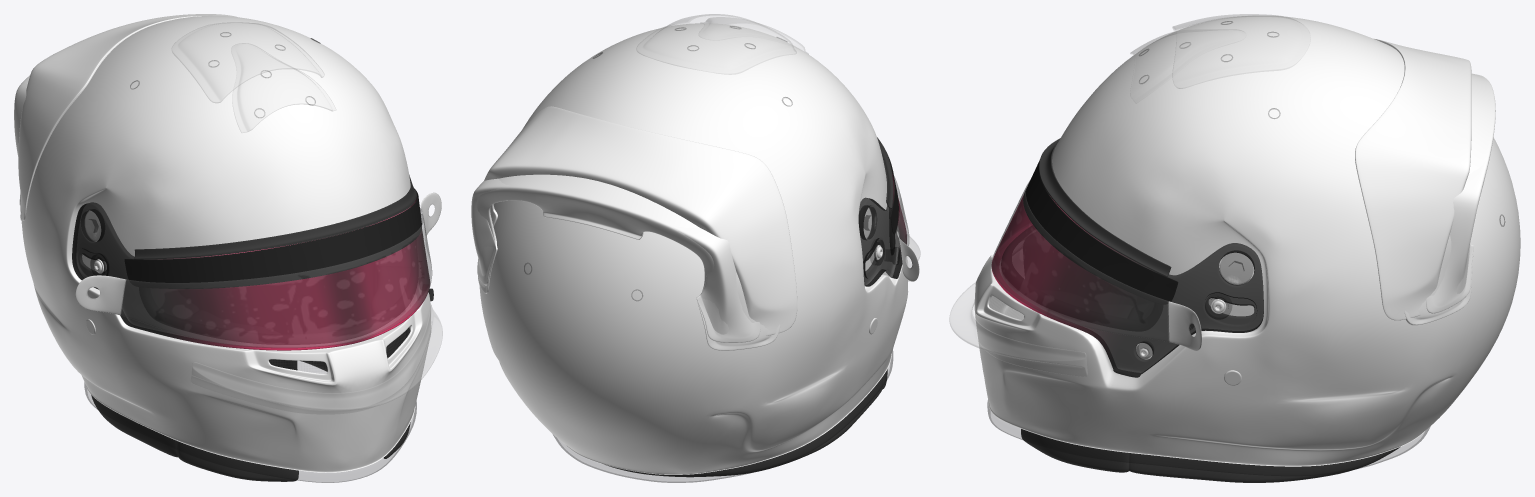
File: helmet.glb
3 views of the same model, side by side, from view 1: azimuth 30°, elevation 25°; view 2: azimuth 150°, elevation 25°; view 3: azimuth 270°, elevation 25° (orthographic). The views are drawn at different scales.
Parts seen in each view (by area): view 1: helmet_shell, visor_tearoff, visor_glass, helmet_shell_padding, visor_sticker, ped_rear_2020, ped_top_C_Upper, front_spoiler_ped, ped_top_C_Lower, visor_rubber, visor_water_seal, airIntakes_F (+2 smaller); view 2: helmet_shell, ped_rear_2020, ped_rear_legacy_L, ped_rear_legacy_S, ped_top_C_Upper, visor_glass, helmet_shell_padding, ped_top_C_Lower, visor_tearoff; view 3: helmet_shell, ped_rear_2020, visor_glass, visor_tearoff, helmet_shell_padding, ped_top_C_Upper, visor_sticker, front_spoiler_ped, ped_top_C_Lower, ped_rear_legacy_S, ped_rear_legacy_L, visor_water_seal (+2 smaller).
Part boxes in pixels (left/top/right/bottom): helmet_shell: left=21, top=15, right=431, bottom=482; visor_tearoff: left=75, top=192, right=441, bottom=348; visor_glass: left=72, top=175, right=433, bottom=350; helmet_shell_padding: left=91, top=245, right=410, bottom=481; visor_sticker: left=124, top=188, right=421, bottom=288; ped_rear_2020: left=18, top=14, right=237, bottom=220; ped_top_C_Upper: left=172, top=22, right=324, bottom=102; front_spoiler_ped: left=191, top=305, right=442, bottom=414; ped_top_C_Lower: left=231, top=43, right=335, bottom=132; visor_rubber: left=139, top=203, right=417, bottom=344; visor_water_seal: left=134, top=182, right=416, bottom=259; airIntakes_F: left=269, top=326, right=410, bottom=373; helmet_shell: left=479, top=23, right=908, bottom=482; ped_rear_2020: left=484, top=106, right=797, bottom=335; ped_rear_legacy_L: left=476, top=174, right=780, bottom=350; ped_rear_legacy_S: left=471, top=178, right=760, bottom=342; ped_top_C_Upper: left=636, top=14, right=796, bottom=74; visor_glass: left=858, top=174, right=906, bottom=286; helmet_shell_padding: left=604, top=369, right=887, bottom=477; ped_top_C_Lower: left=699, top=17, right=808, bottom=54; visor_tearoff: left=894, top=176, right=919, bottom=281; helmet_shell: left=974, top=16, right=1520, bottom=475; ped_rear_2020: left=1355, top=38, right=1471, bottom=320; visor_glass: left=991, top=195, right=1263, bottom=377; visor_tearoff: left=991, top=181, right=1201, bottom=350; helmet_shell_padding: left=1021, top=231, right=1400, bottom=482; ped_top_C_Upper: left=1172, top=14, right=1310, bottom=88; visor_sticker: left=1023, top=160, right=1178, bottom=304; front_spoiler_ped: left=949, top=282, right=1087, bottom=376; ped_top_C_Lower: left=1130, top=29, right=1245, bottom=103; ped_rear_legacy_S: left=1426, top=73, right=1495, bottom=313; ped_rear_legacy_L: left=1404, top=74, right=1495, bottom=325; visor_water_seal: left=1039, top=138, right=1171, bottom=276.
Size of the model in its own units: 35.88 by 33.89 by 44.63.
13 materials, 9 textured.
